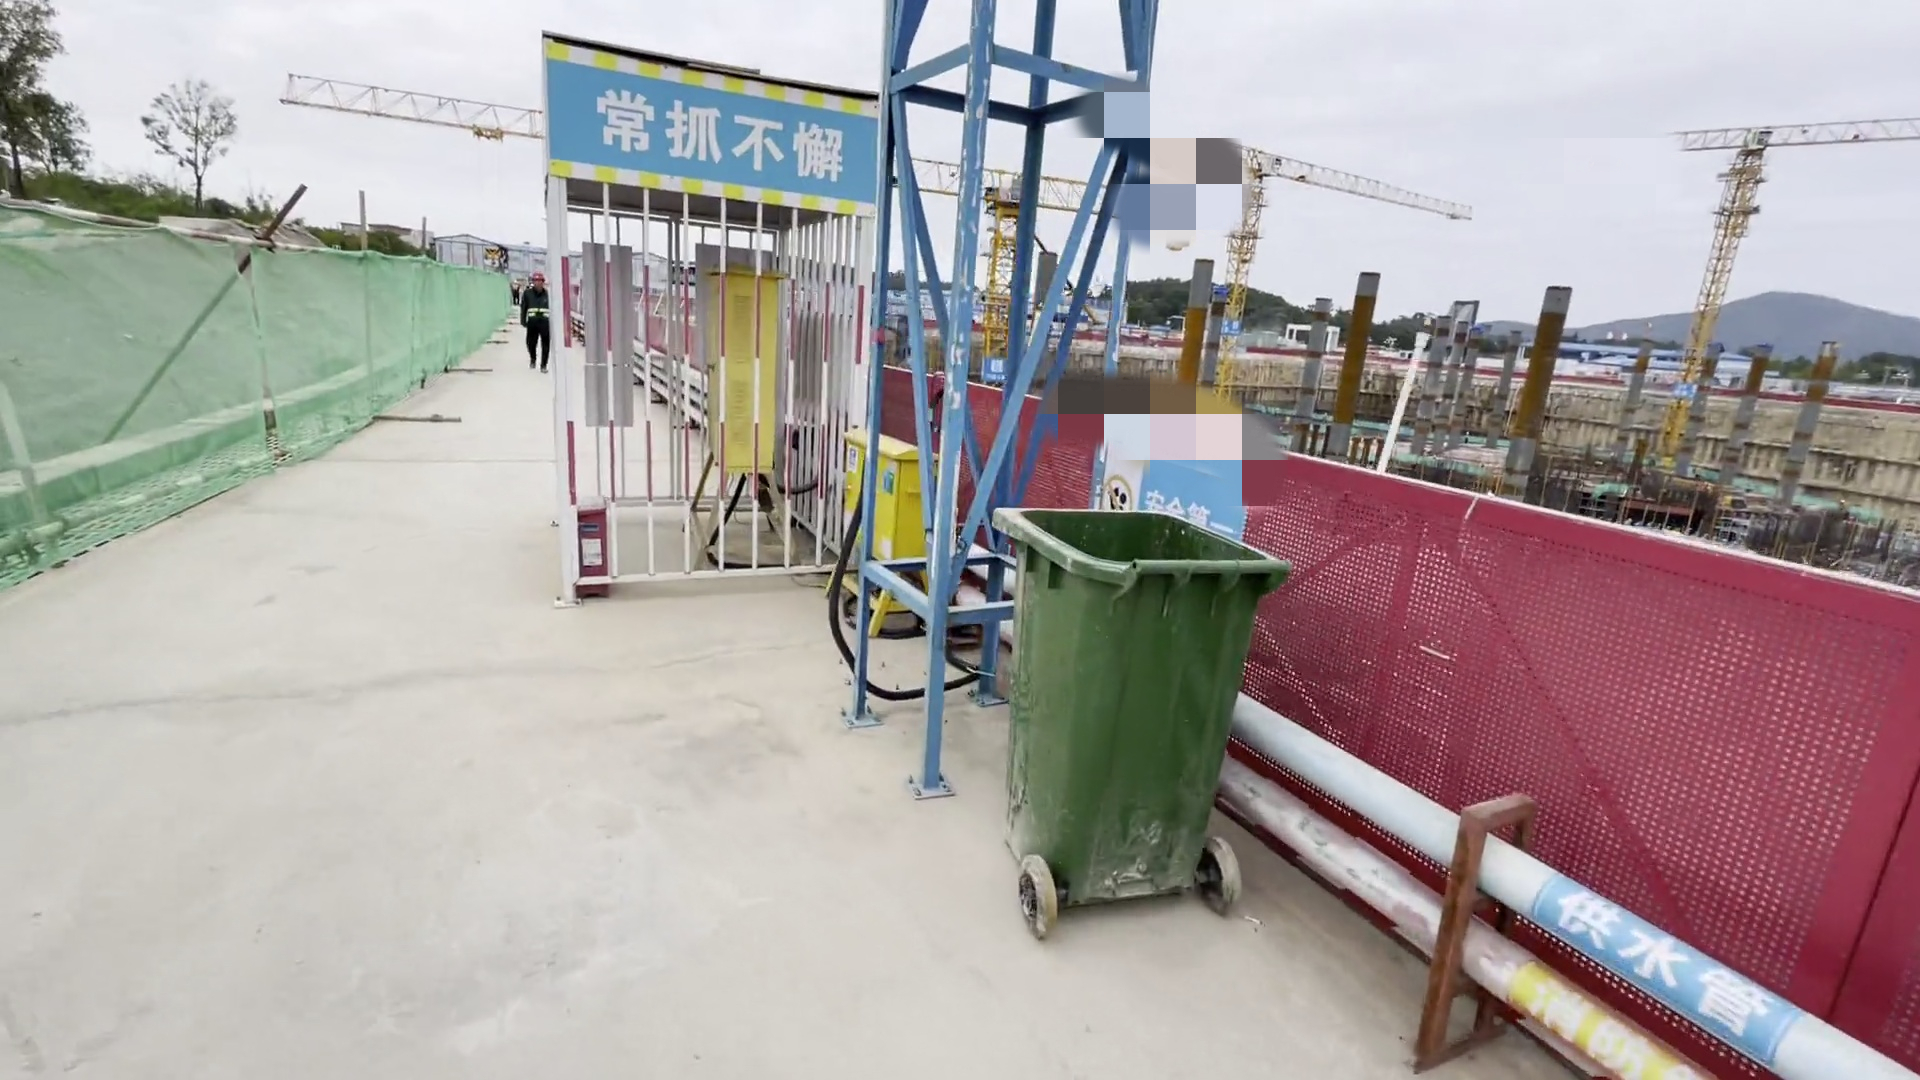ebox: (663, 251, 787, 485), (829, 415, 944, 631)
fence: (881, 310, 1840, 1024)
helmet: (530, 268, 550, 288)
person: (516, 258, 560, 381)
slogan: (565, 52, 854, 221), (1070, 417, 1245, 546)
vest: (518, 288, 554, 332)
